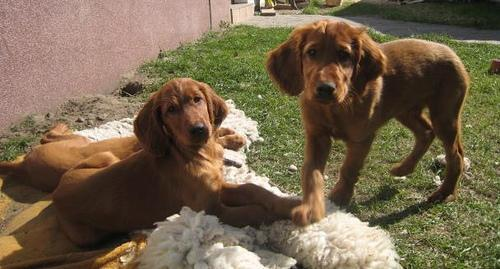Irish_setter: (46, 75, 304, 254), (266, 19, 469, 221), (0, 123, 247, 191)
